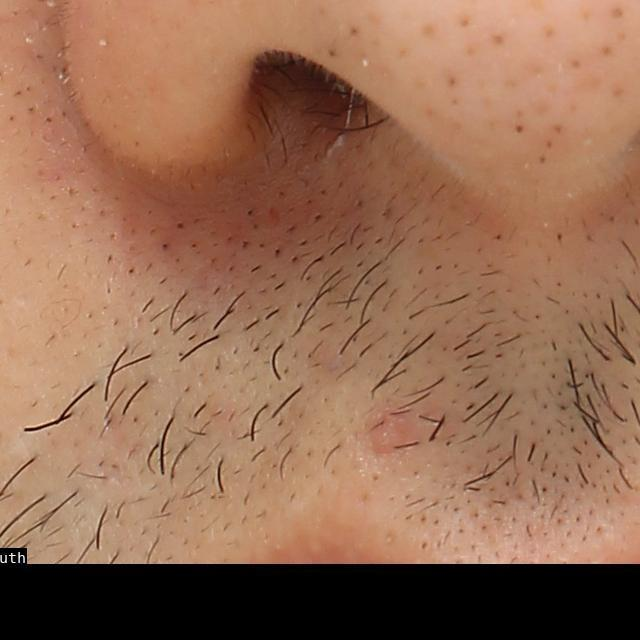papule: (363, 400, 412, 459)
